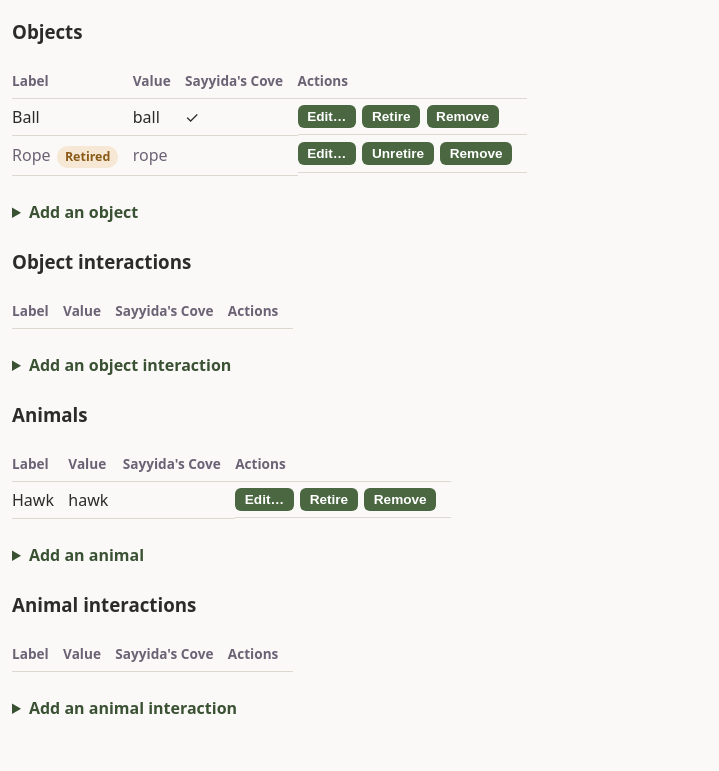
Test case: OptionsCatalog › surfaces the API's refusal when removing a published option
The image size is (719, 771).
# In-app confirm (SM-1): arm, then confirm
Click the 1st button "Remove".
click(463, 117)  # box x1=426 y1=105 x2=499 y2=128
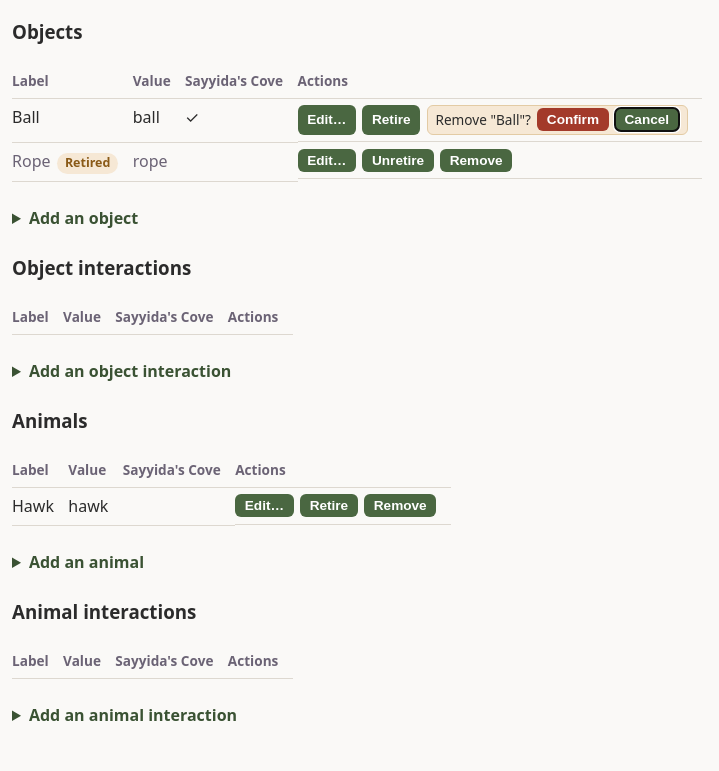
Expected: the text "Remove \"Ball\"?" is shown, x1=436 y1=110 x2=531 y2=129
Click the button "Confirm".
click(573, 120)  # box x1=537 y1=108 x2=609 y2=132
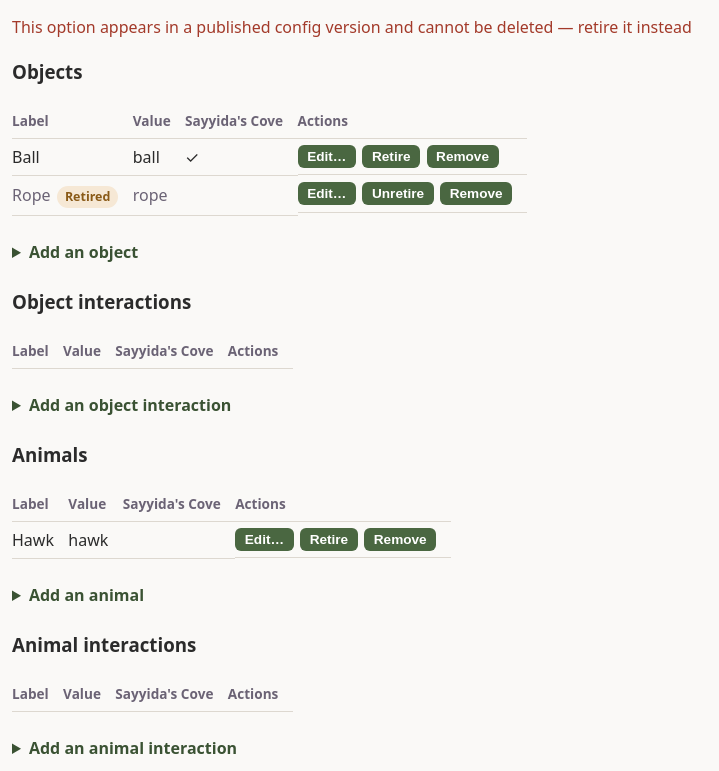
Expected: the message shows "retire it instead", x1=12 y1=16 x2=692 y2=38
